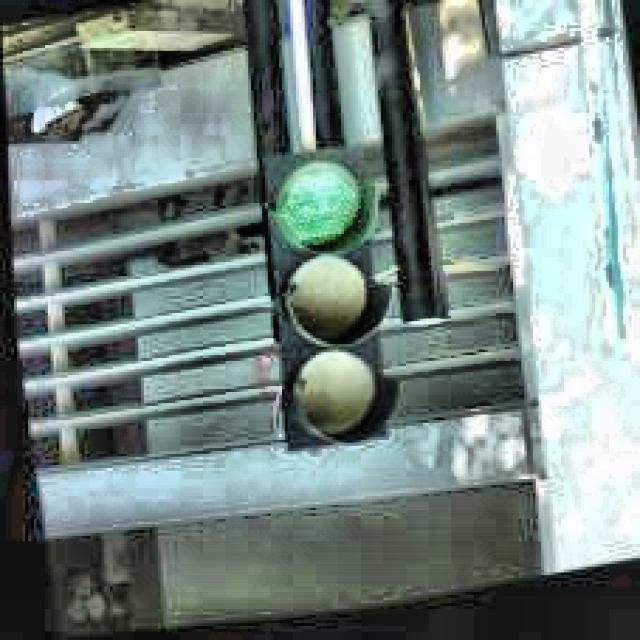green: (244, 146, 410, 462)
